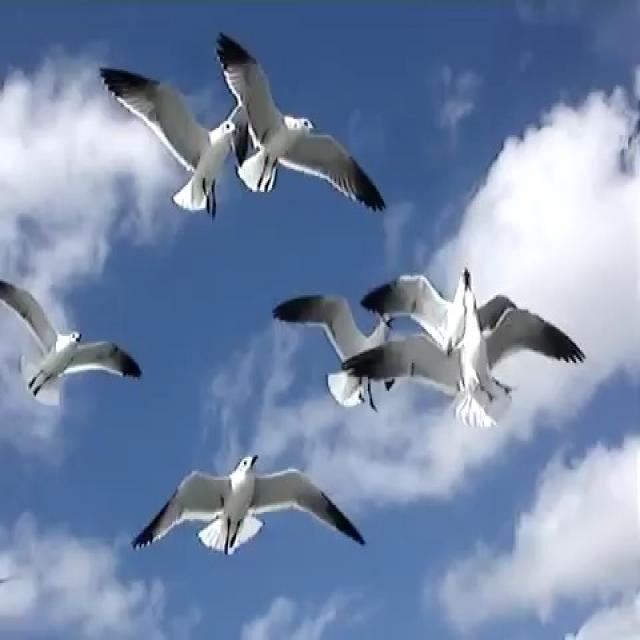bird: (361, 292, 587, 461), (216, 34, 386, 212), (82, 59, 258, 229), (111, 453, 392, 559), (0, 281, 150, 416), (274, 285, 396, 410), (372, 266, 512, 348)
